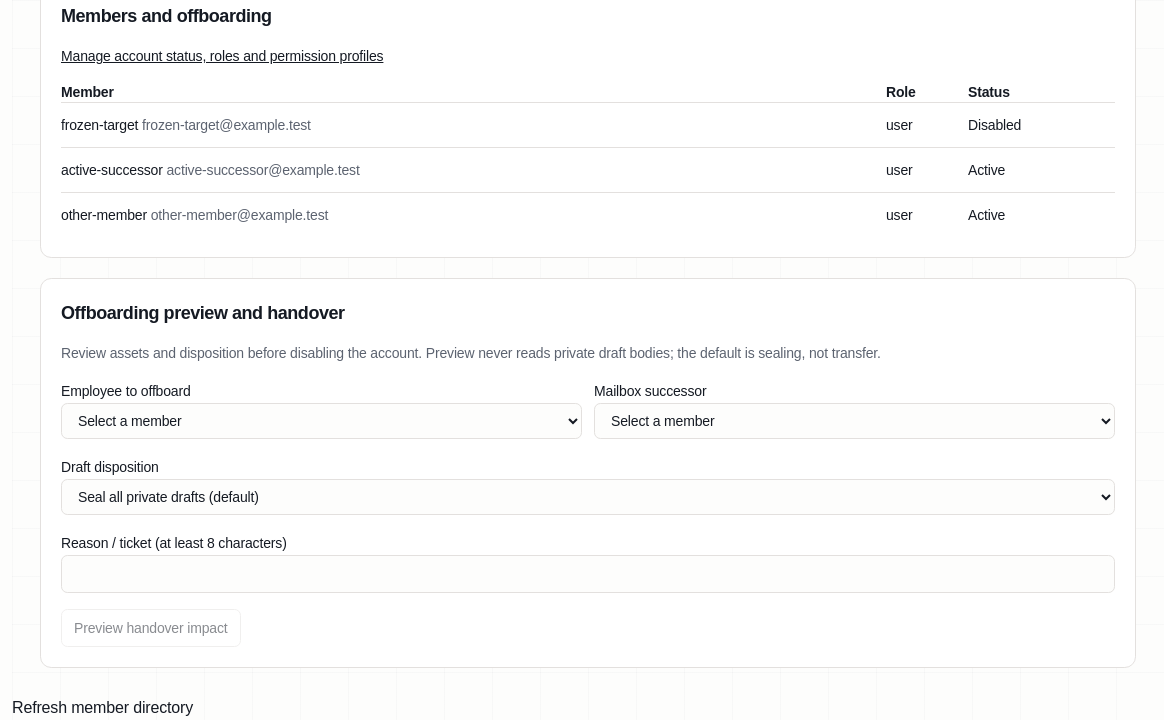
Test case: handover member read ownership › keeps a reviewed plan through token-only rotation without a new member read
This screenshot has width=1164, height=720.
(page scrolled)
Select "frozen-target · frozen-target@example.test" in the dropdown labelled "Employee to offboard": (322, 421) x1=61 y1=403 x2=582 y2=439
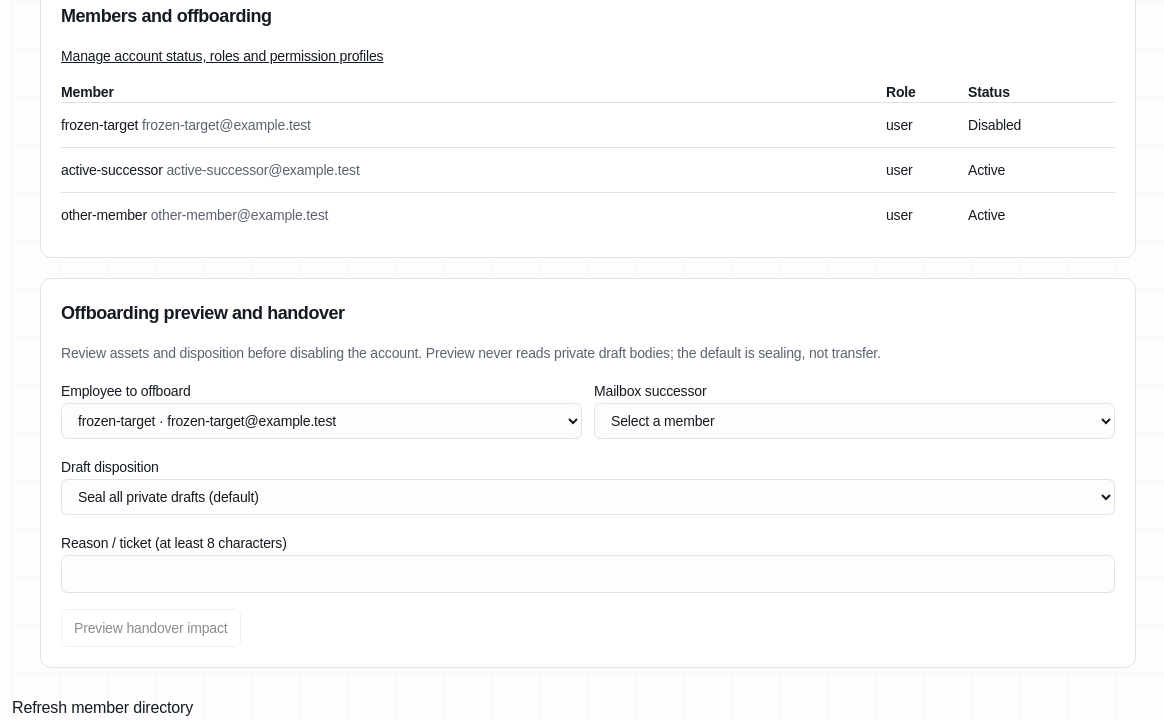
Select "active-successor · active-successor@example.test" in the dropdown labelled "Mailbox successor": (854, 421) x1=594 y1=403 x2=1115 y2=439
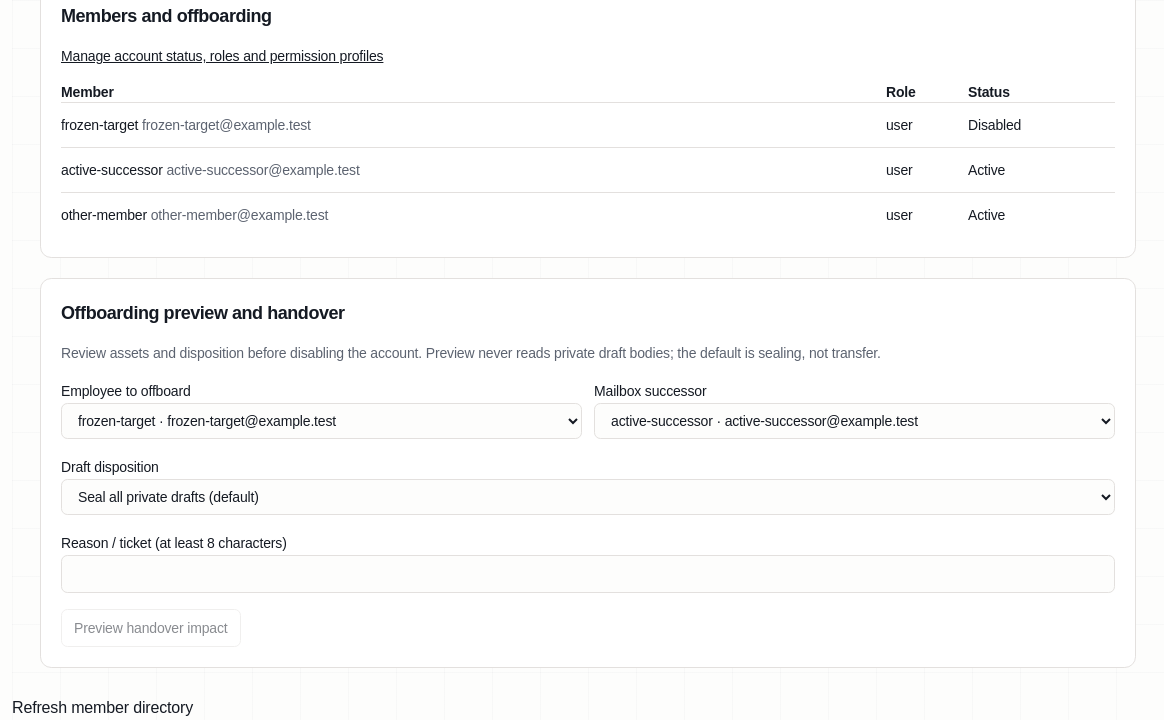
In the field labelled "Reason / ticket (at least 8 characters)": (588, 574) x1=61 y1=555 x2=1115 y2=593, type "Reviewed handover ticket 104"
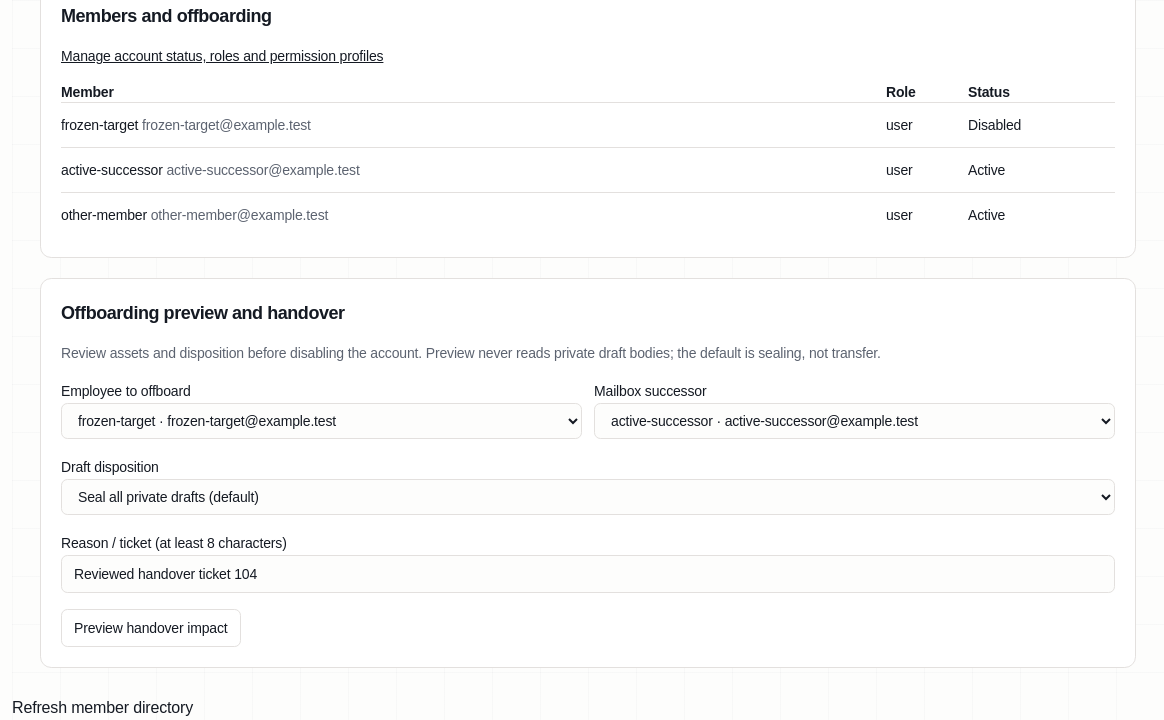
Click the button "Preview handover impact": click(151, 628) x1=61 y1=609 x2=240 y2=647
(page scrolled)
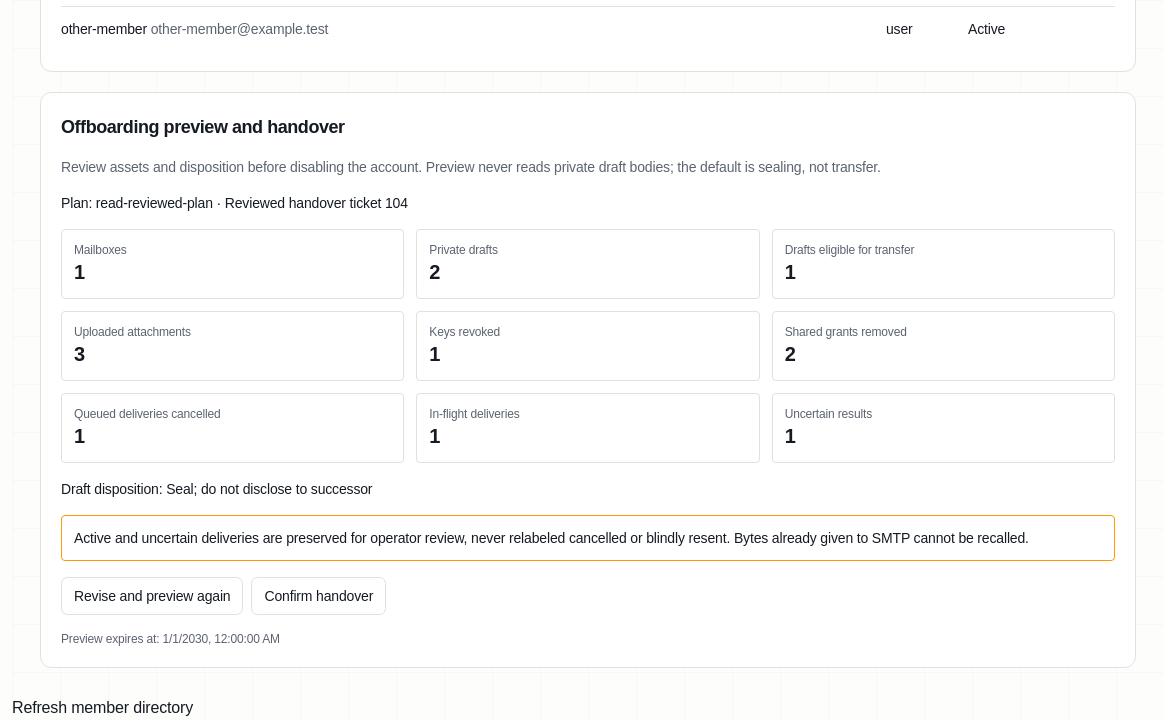
Check: the button "Confirm handover" is enabled, box x1=252 y1=577 x2=386 y2=615
